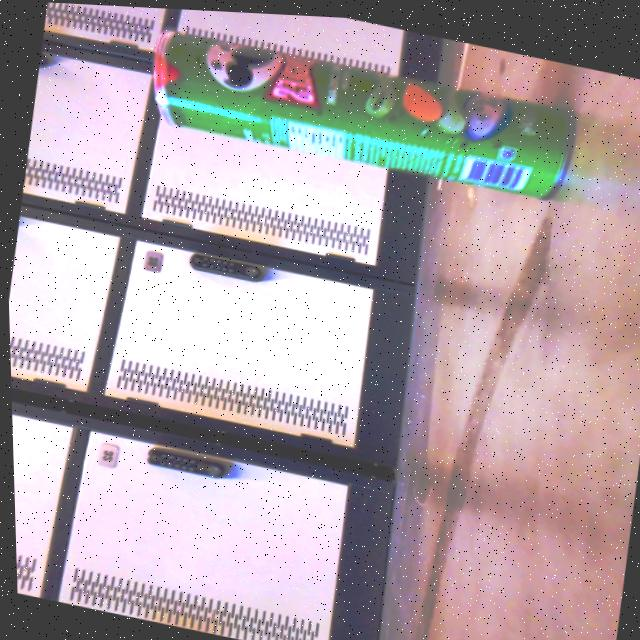greenpringles: (116, 5, 590, 220)
